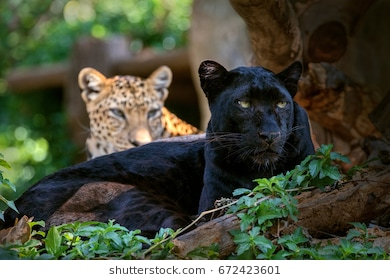leopard: (74, 66, 214, 164)
panther: (1, 61, 319, 238)
